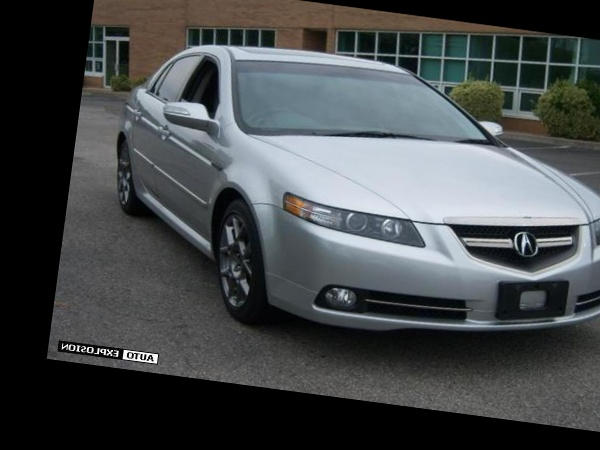car: (76, 14, 600, 384)
